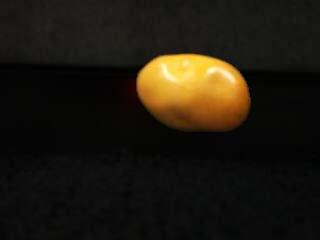Potato: (136, 55, 253, 134)
